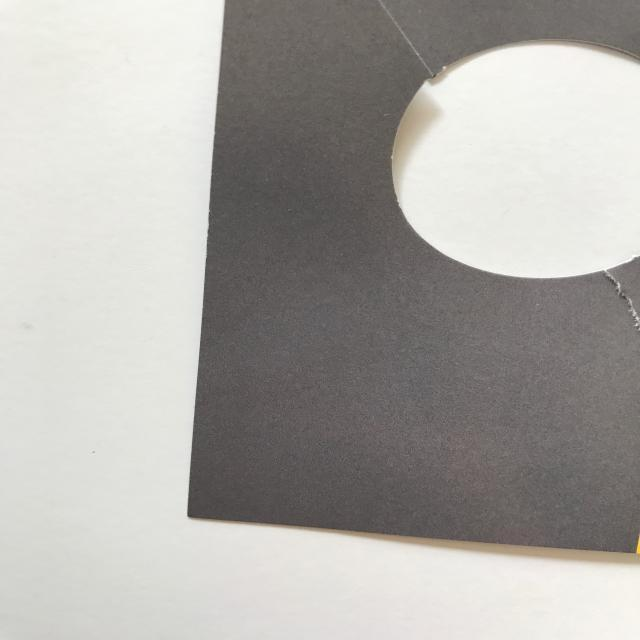paper: (213, 1, 640, 566)
